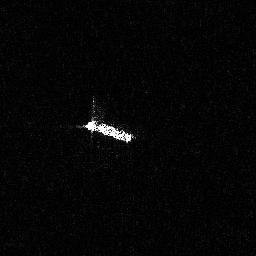ship: (73, 95, 136, 145)
